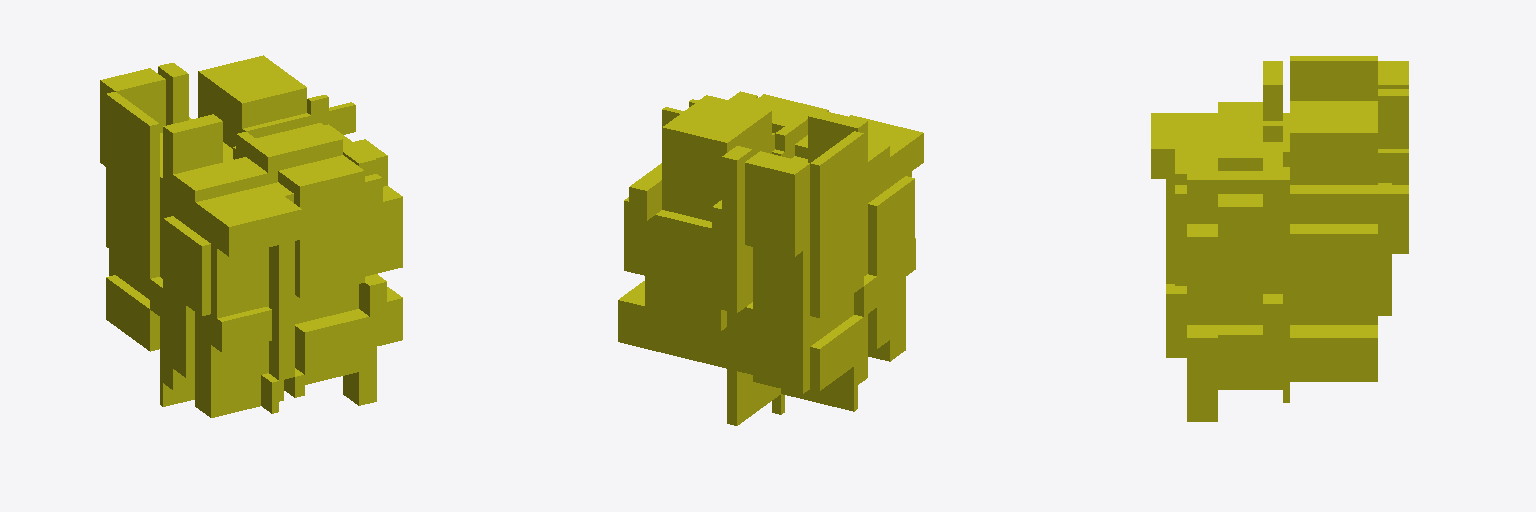
3 views of the same model, side by side, from view 1: azimuth 30°, elevation 25°; view 2: azimuth 150°, elevation 25°; view 3: azimuth 270°, elevation 25° (orthographic).
Parts seen in each view (by area): view 1: Cube; view 2: Cube; view 3: Cube.
Boxes of the visible parts, box(x1,y1,x2,y2) form: Cube: box(100, 55, 402, 417); Cube: box(618, 91, 923, 425); Cube: box(1151, 56, 1408, 421).
Bounding box in the file's own units: 2.92 × 4.17 × 3.23.
1 materials, 1 textured.